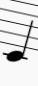note: (2, 1, 34, 63)
